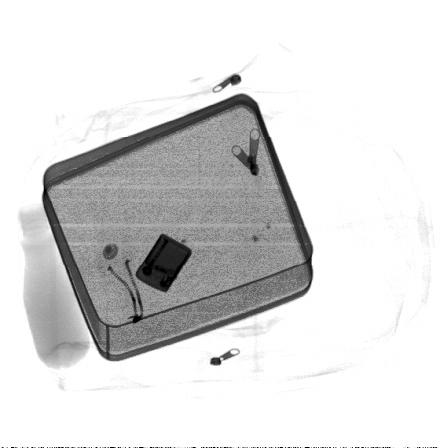Lighter: (134, 233, 192, 294)
